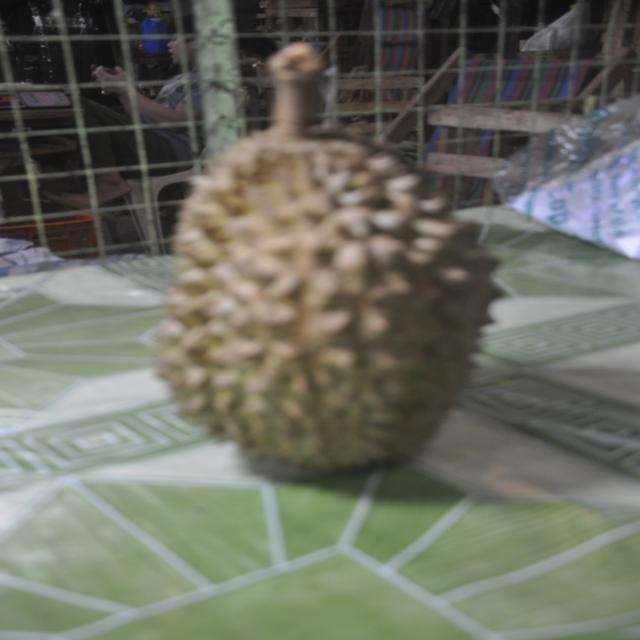mature: (159, 43, 498, 468)
